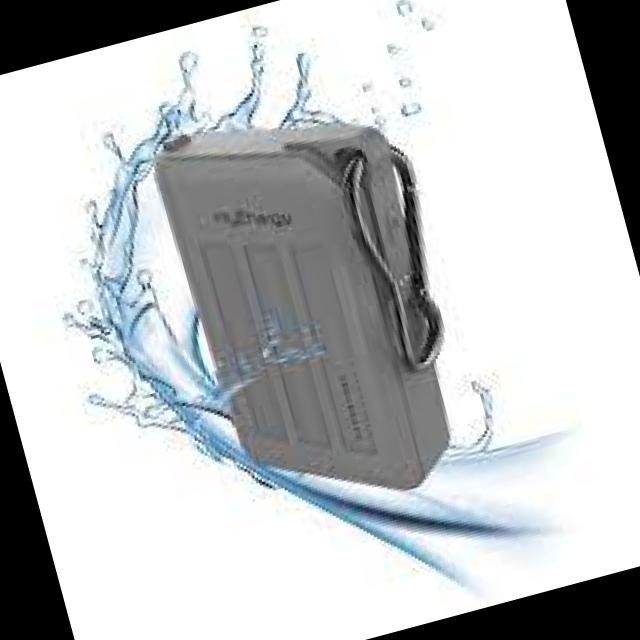power_bank: (141, 70, 490, 536)
